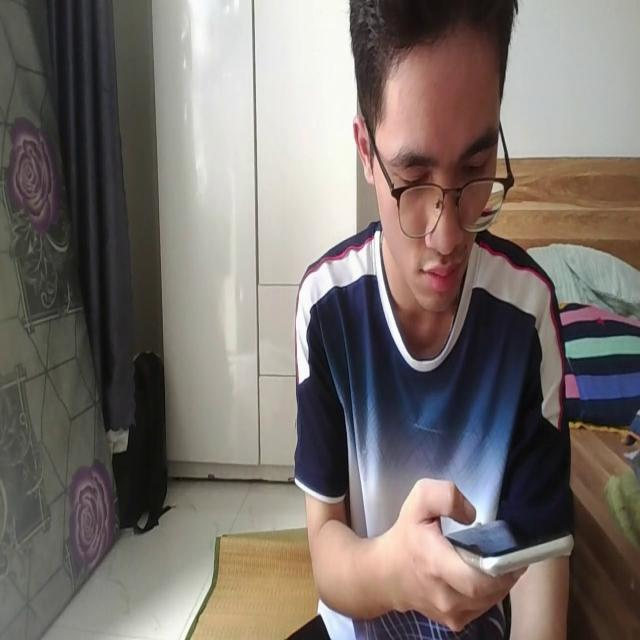phone: (436, 506, 575, 574)
student: (291, 2, 574, 640)
